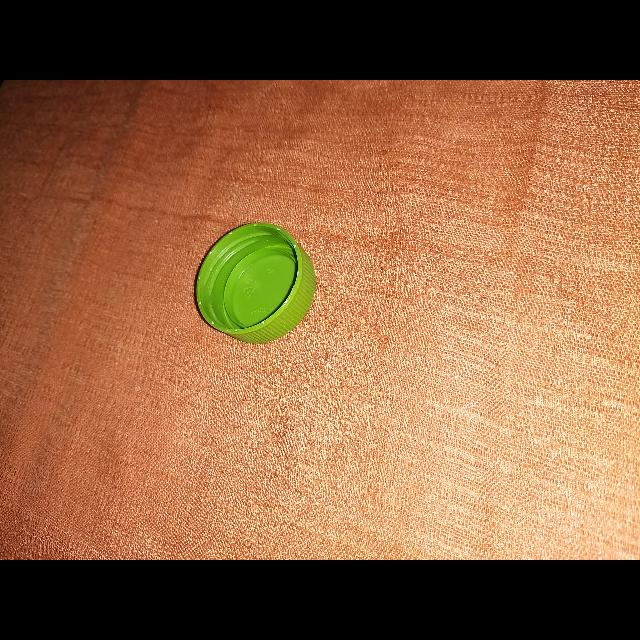plastic_bottle_cap: (194, 222, 316, 344)
